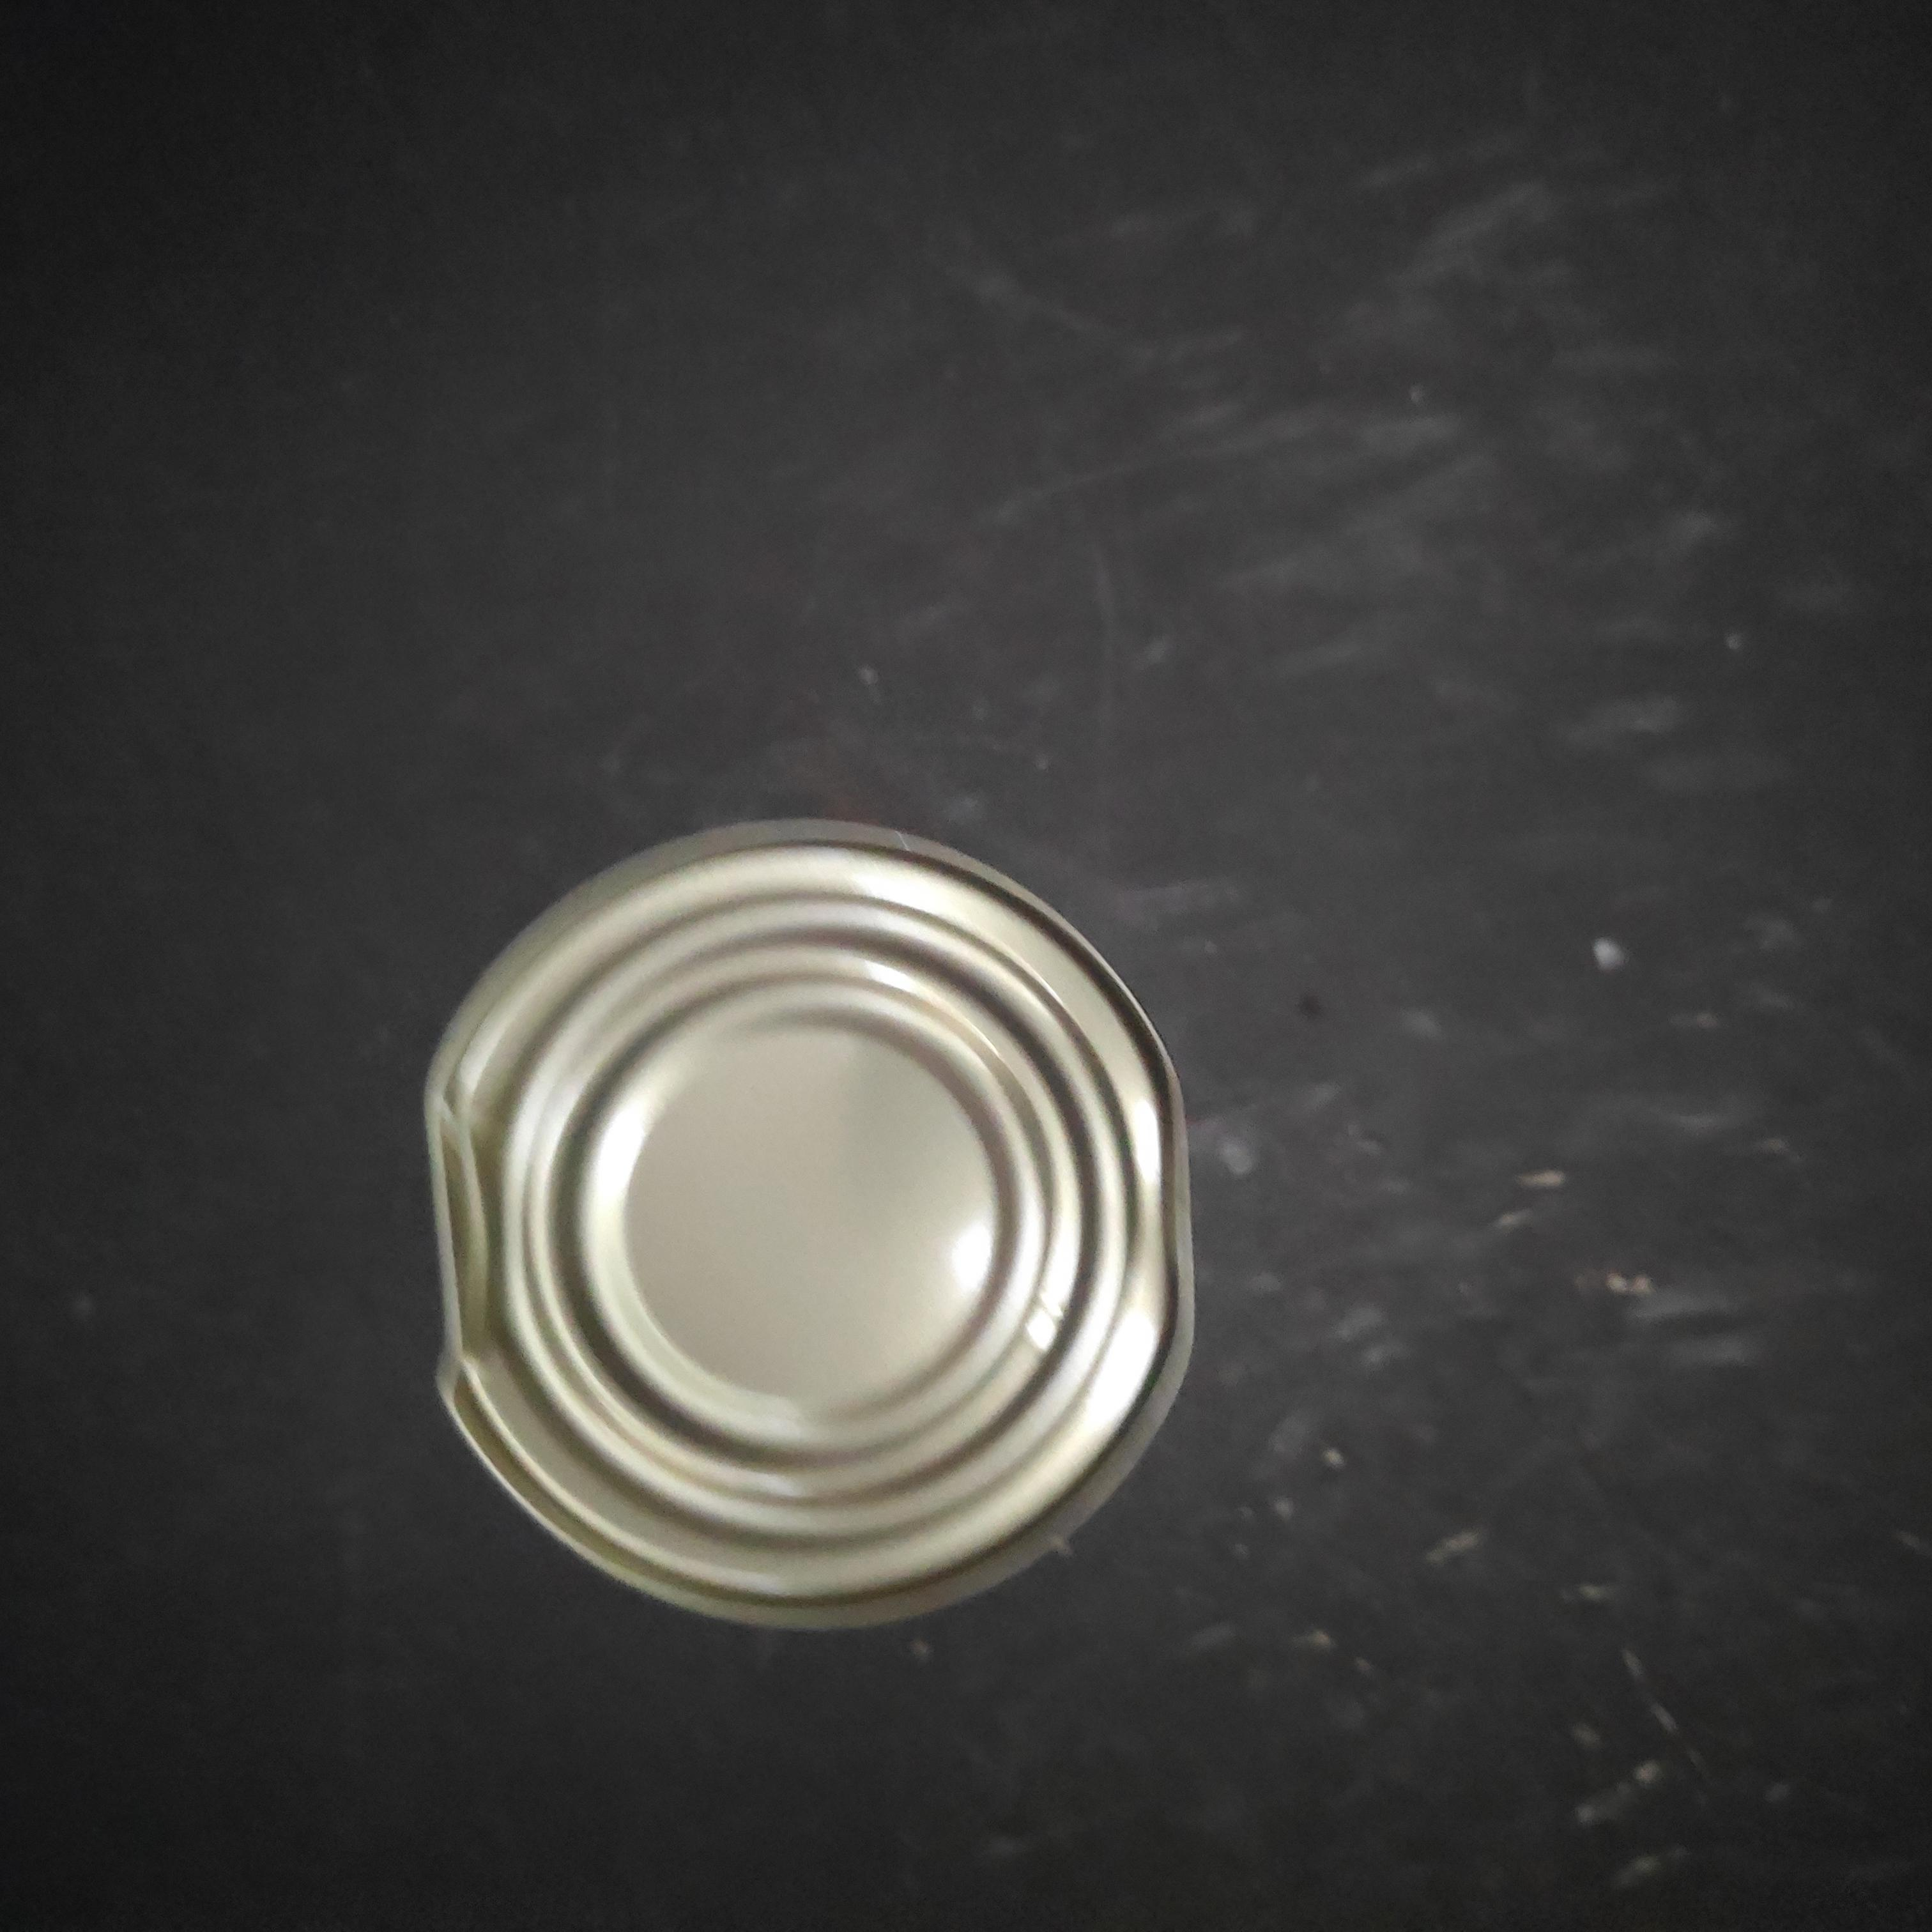Minor Defect: (729, 285, 1520, 1139)
